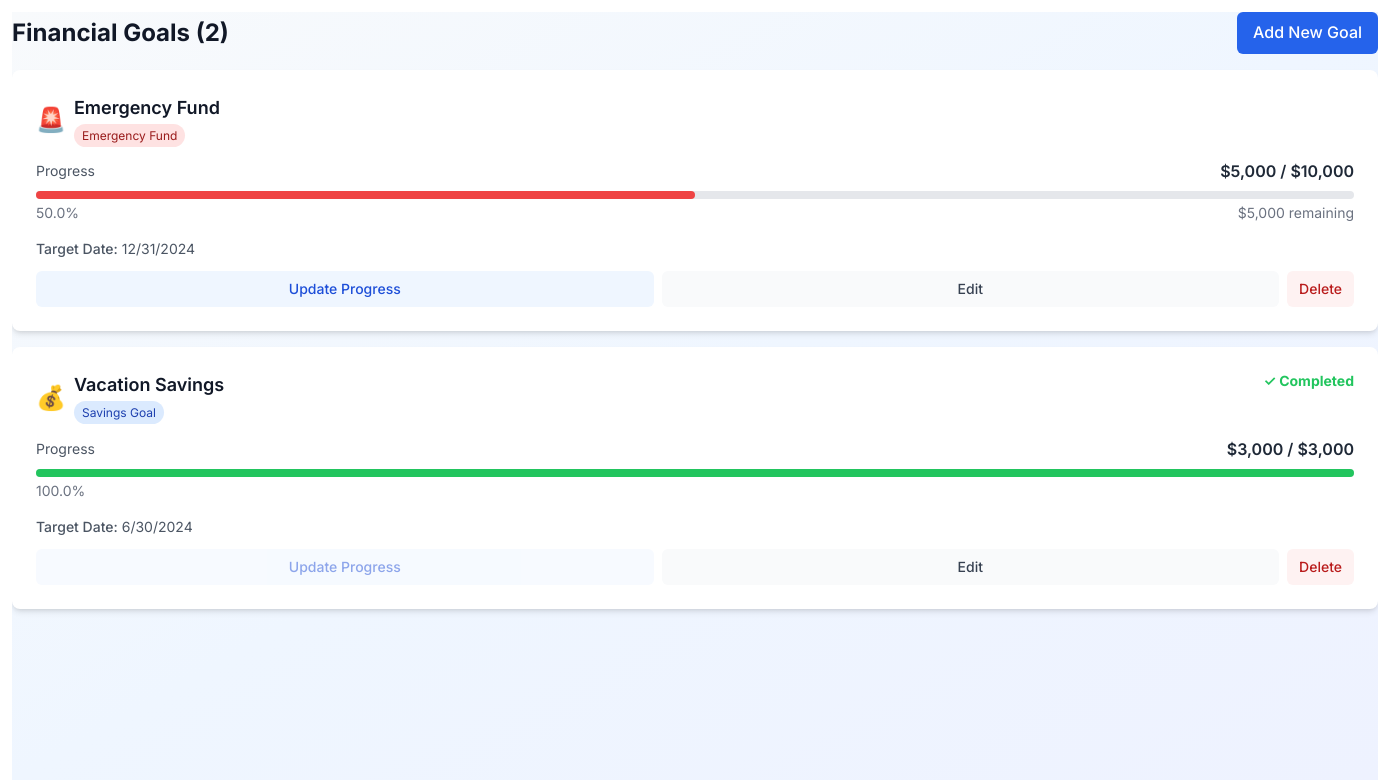
Test: Refactored GoalsSection Component › Goal Editing › should open edit form with pre-filled data
Note: Click edit button for first goal
Click the button "Edit" below "remaining": click(970, 289) [662,271,1279,307]
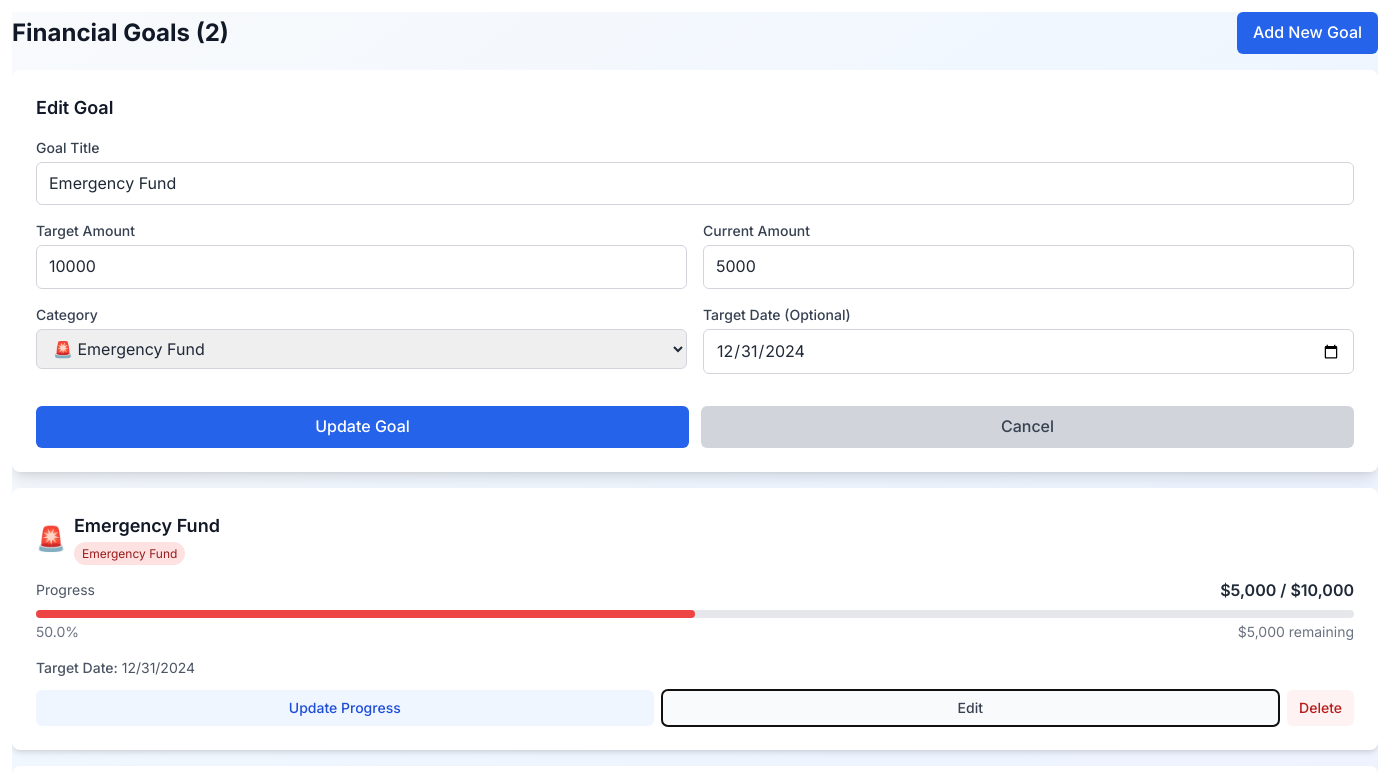
Now the element with test id "goal-form" is shown, box [12,70,1378,472]
Now the heading "Edit Goal" is shown, box [36,97,113,118]
Now the field showing "Emergency Fund" is shown, box [36,162,1354,205]
